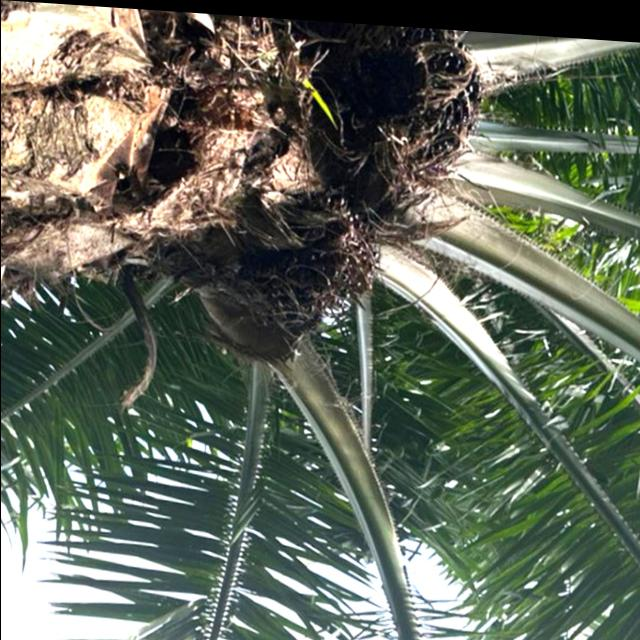ripe: (232, 177, 396, 343)
